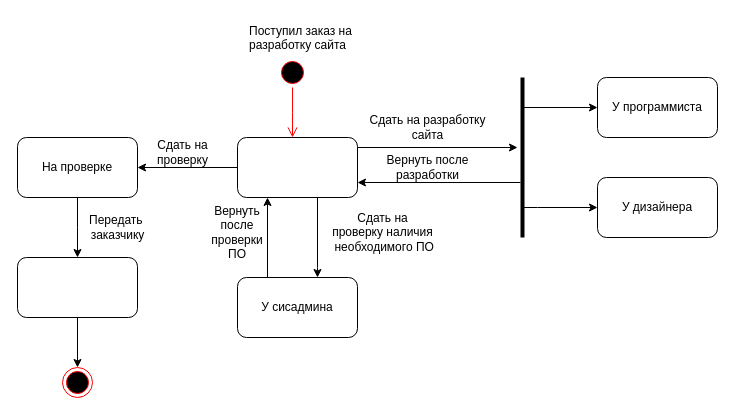
Some shapes in this 735 by 415 pixel diagram are drawn without their labels. Here are the shapes that lost their labels. From the top down, the centre of each, then its label:
At (297,167): "У тимлида".
At (77,287): "У заказчика".
